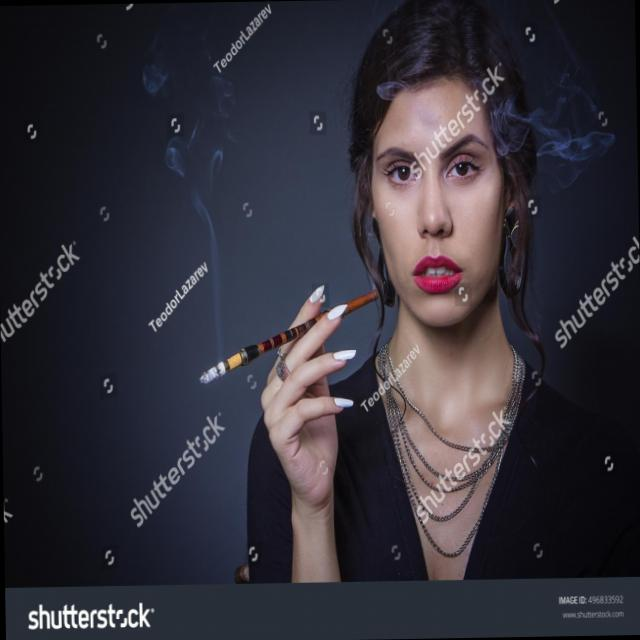cigarette: (167, 288, 396, 388)
